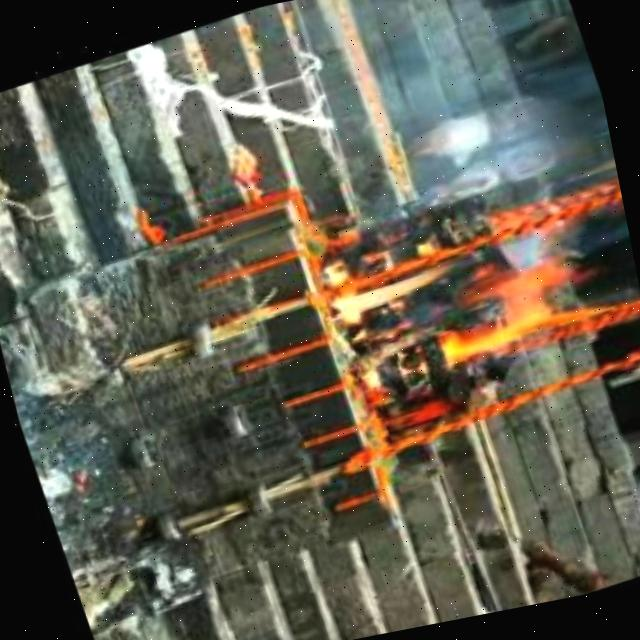fire: (310, 198, 620, 399)
